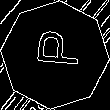P_W: (28, 34, 82, 76)
